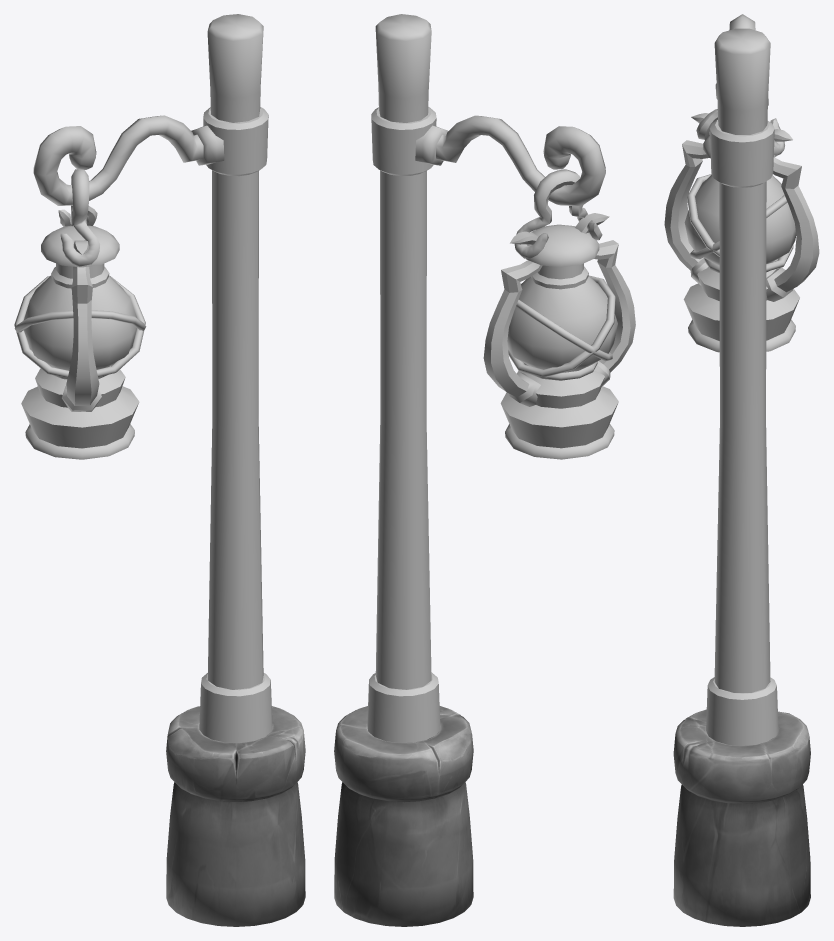
The model's file is Lamp02.fbx.
3 views of the same model, side by side, from view 1: azimuth 30°, elevation 25°; view 2: azimuth 150°, elevation 25°; view 3: azimuth 270°, elevation 25° (orthographic).
Visible parts, largest first — view 1: Lamp02; view 2: Lamp02; view 3: Lamp02.
Boxes of the visible parts, box(x1,y1,x2,y2) form: Lamp02: box(14, 14, 305, 926); Lamp02: box(334, 14, 635, 926); Lamp02: box(664, 14, 819, 926).
Size of the model in its own units: 1.92 by 5.94 by 0.9672.
